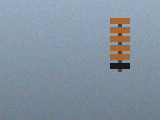defect: (110, 62, 130, 70)
insulator: (108, 16, 132, 73)
